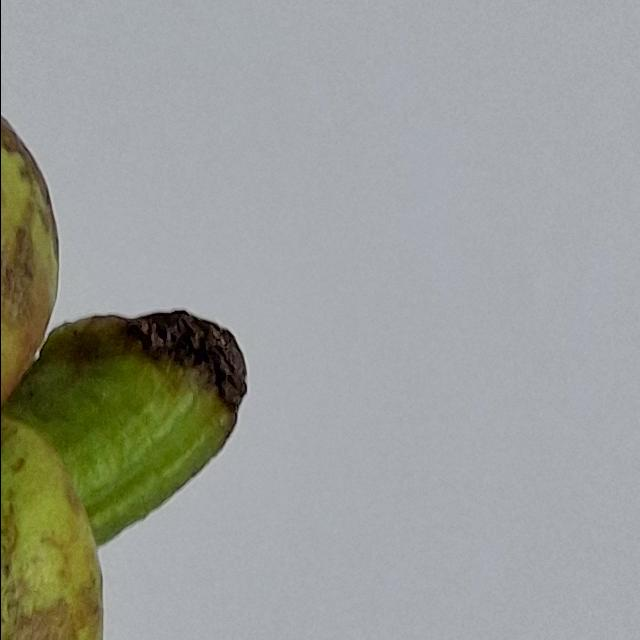mangosteen: (0, 0, 290, 640)
